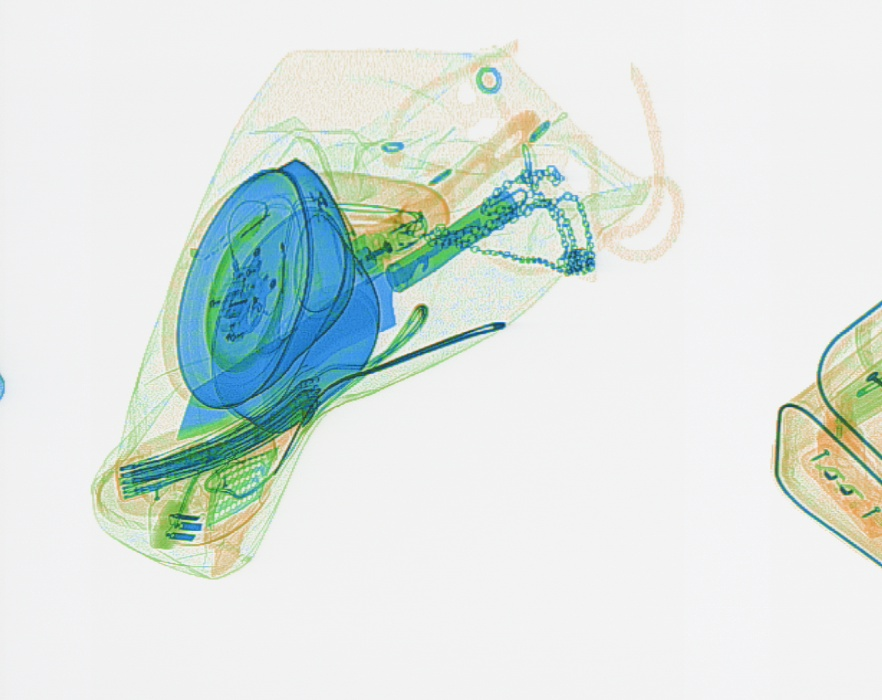knife: (170, 187, 532, 438)
